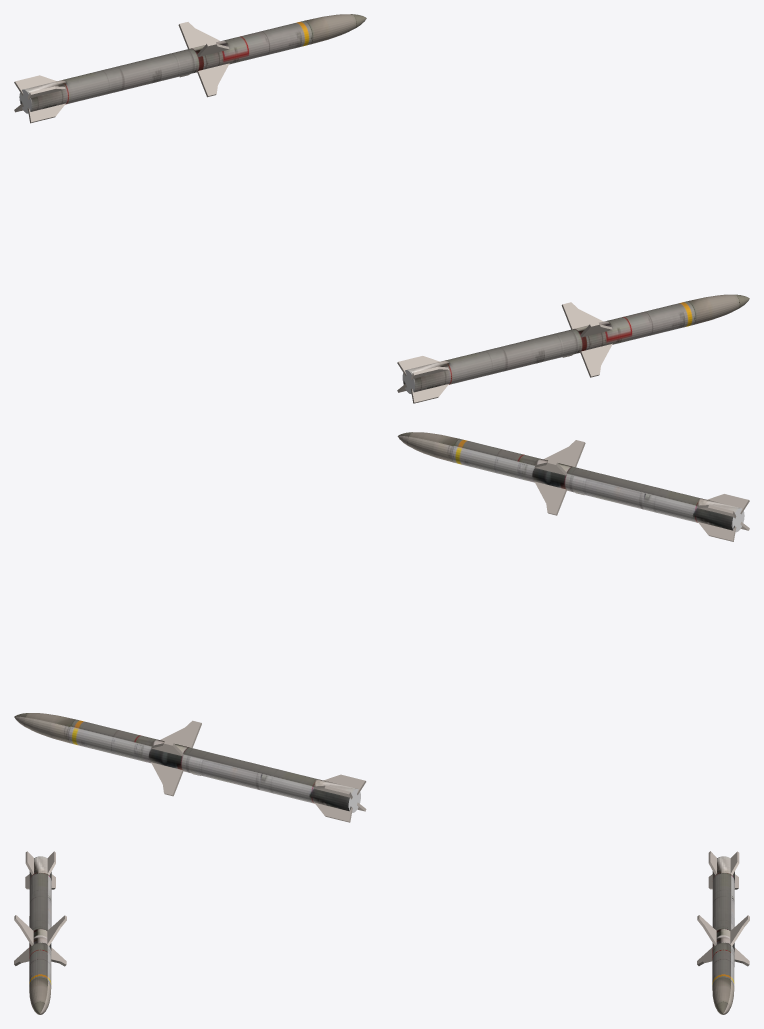
The model's file is fa18fagm8816.glb.
The picture shows the model from 3 angles, top to bottom: view 1: azimuth 30°, elevation 25°; view 2: azimuth 150°, elevation 25°; view 3: azimuth 270°, elevation 25°; orthographic projection. The views are drawn at different scales.
Parts seen in each view (by area): view 1: 円柱.004, 円柱.005; view 2: 円柱.004, 円柱.005; view 3: 円柱.005, 円柱.004.
Boxes of the visible parts, box(x1,y1,x2,y2) form: 円柱.004: box(397, 294, 749, 403); 円柱.005: box(14, 14, 366, 123); 円柱.004: box(397, 432, 749, 541); 円柱.005: box(14, 713, 366, 822); 円柱.005: box(697, 851, 749, 1014); 円柱.004: box(14, 851, 66, 1014).
Bounding box in the file's own units: 4.9 × 0.7319 × 10.19.
2 materials, 1 textured.
